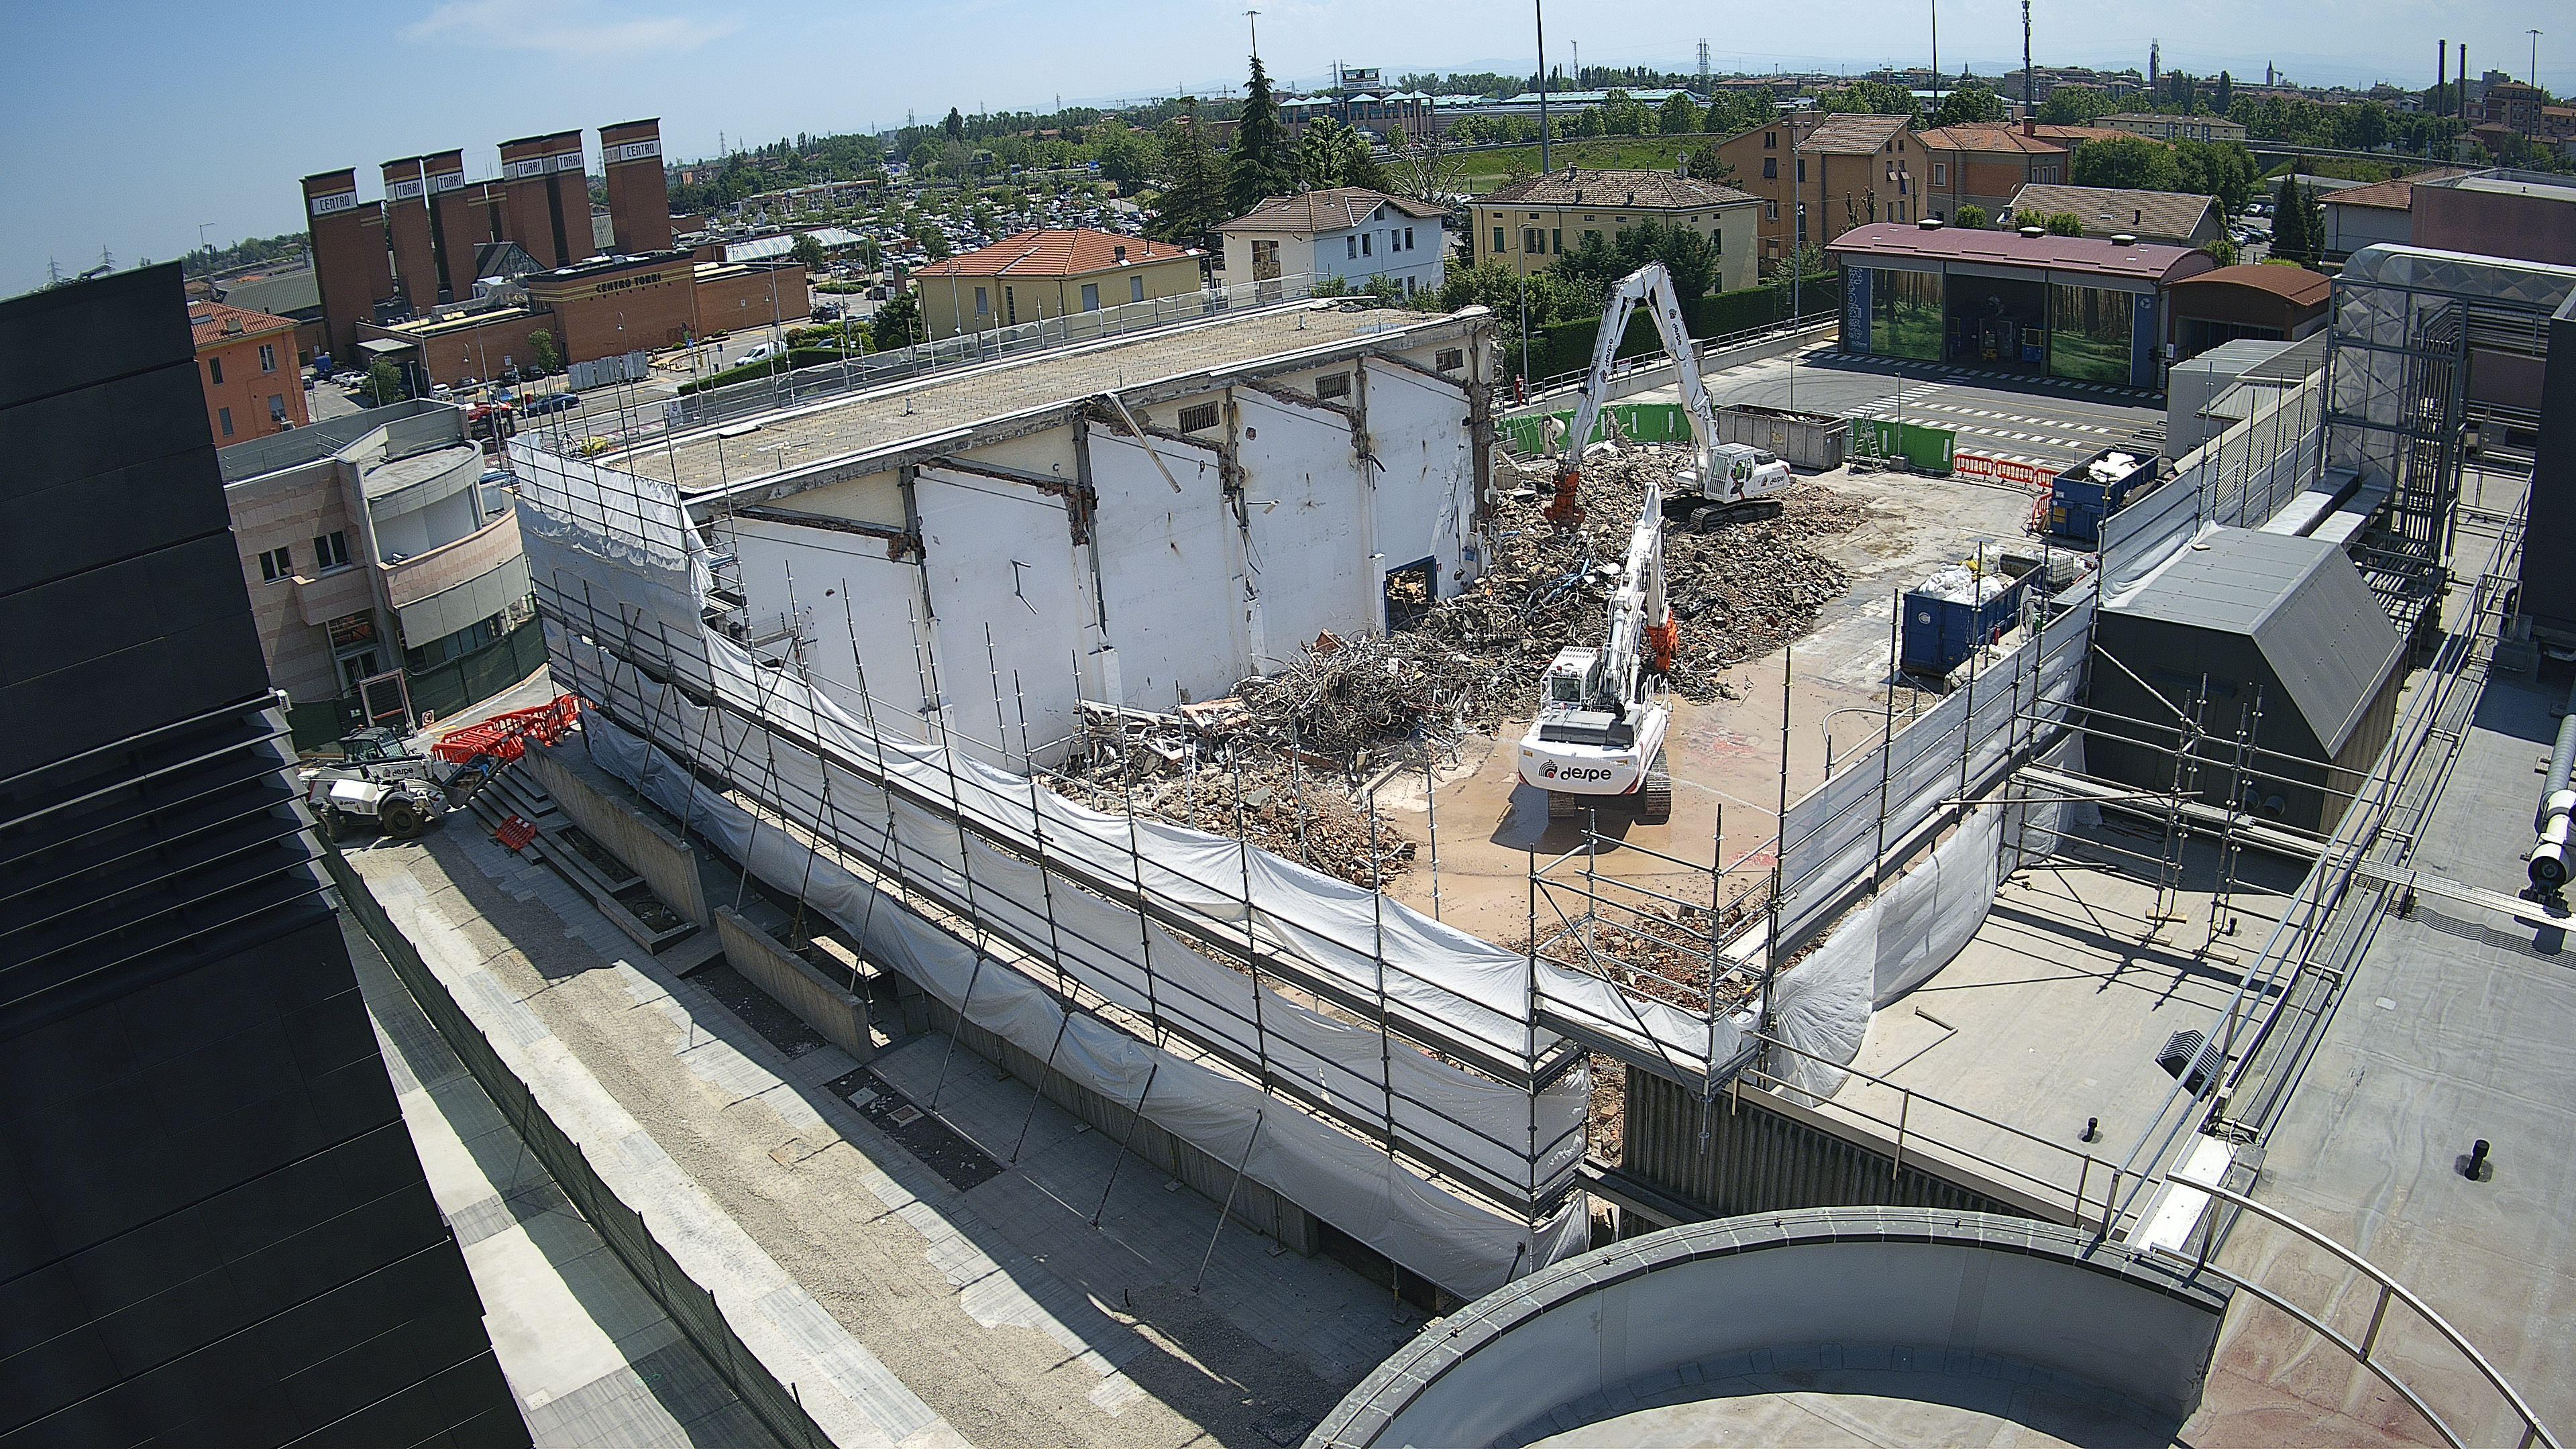Cars: (518, 391, 580, 414), (736, 338, 786, 366), (810, 306, 842, 324), (310, 356, 333, 379), (497, 366, 522, 386), (455, 375, 479, 395), (490, 387, 515, 405), (430, 382, 453, 400), (524, 364, 545, 380), (865, 285, 886, 301)
excavator: (1543, 257, 1792, 533), (1516, 483, 1677, 816), (297, 725, 508, 840)
